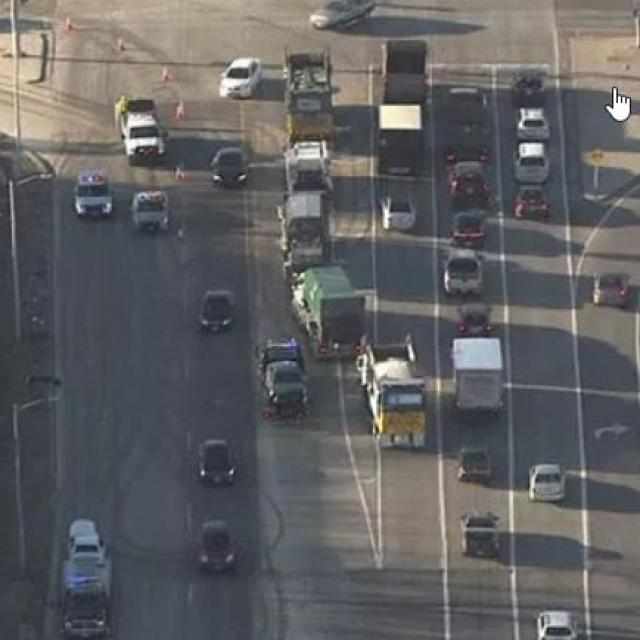traffic_incident: (267, 31, 478, 446)
